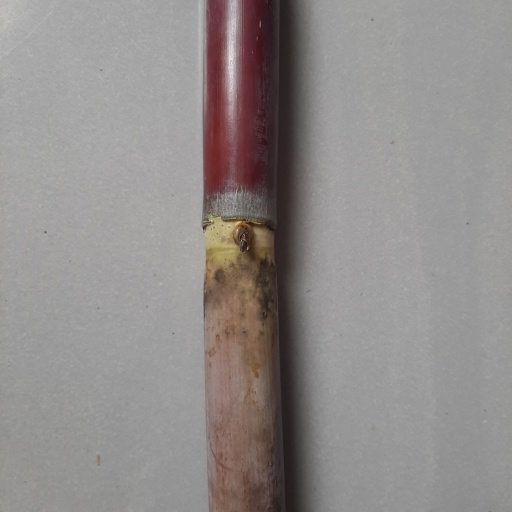Sprouted_Bud: (232, 220, 254, 254)
